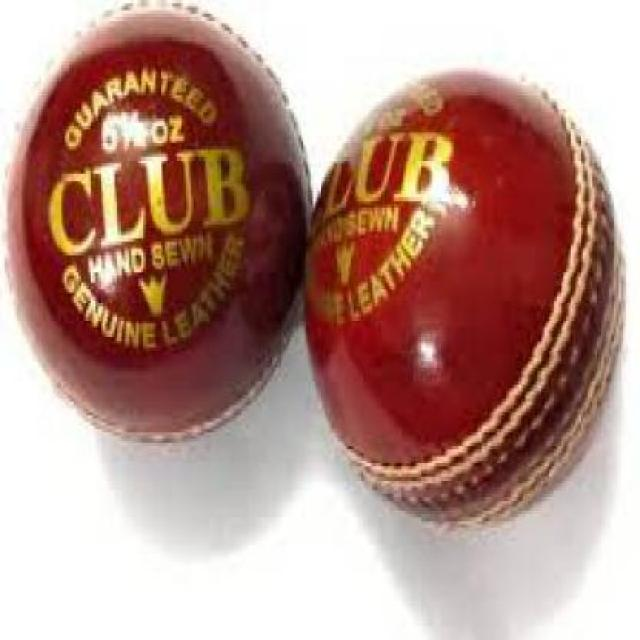ball: (293, 45, 640, 571)
